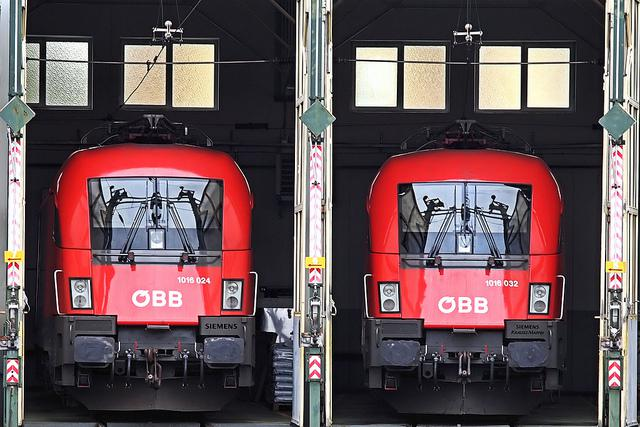Train: (44, 117, 260, 414), (360, 116, 569, 422)
